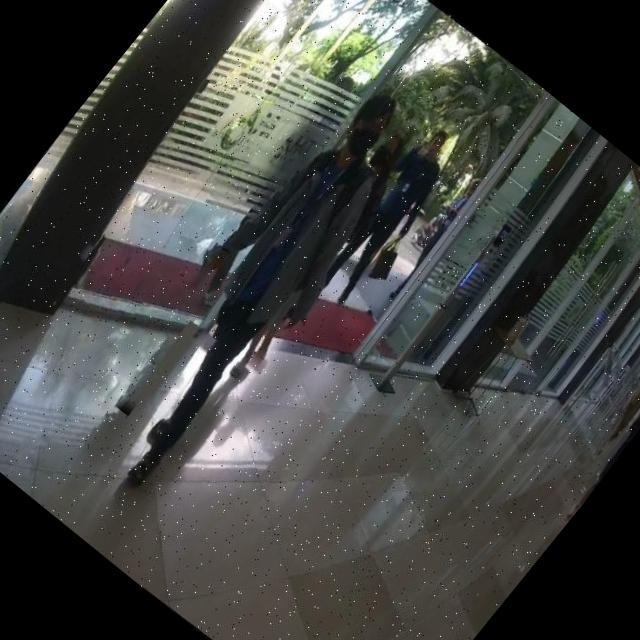person: (72, 76, 440, 499), (302, 116, 472, 312)
